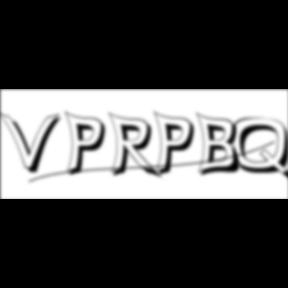B: (196, 111, 246, 179)
P: (66, 110, 112, 180), (154, 110, 200, 180)
R: (108, 112, 166, 182)
V: (0, 110, 66, 176)
